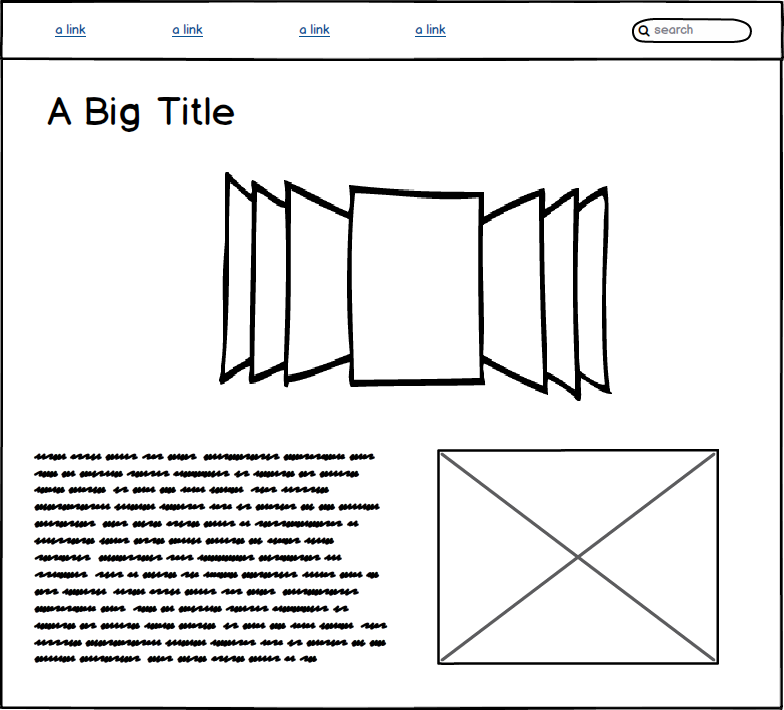h1: (37, 90, 241, 138)
image: (434, 444, 723, 670)
navlink: (290, 18, 339, 48), (163, 19, 215, 44), (408, 17, 455, 44), (44, 21, 96, 40)
p: (27, 445, 393, 673)
search: (626, 11, 760, 50)
slideshow: (205, 165, 620, 409)
